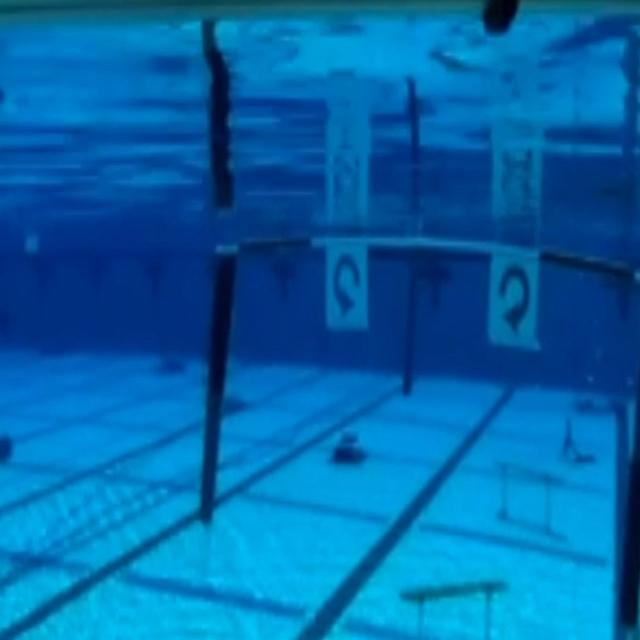Gate: (208, 243, 638, 597)
